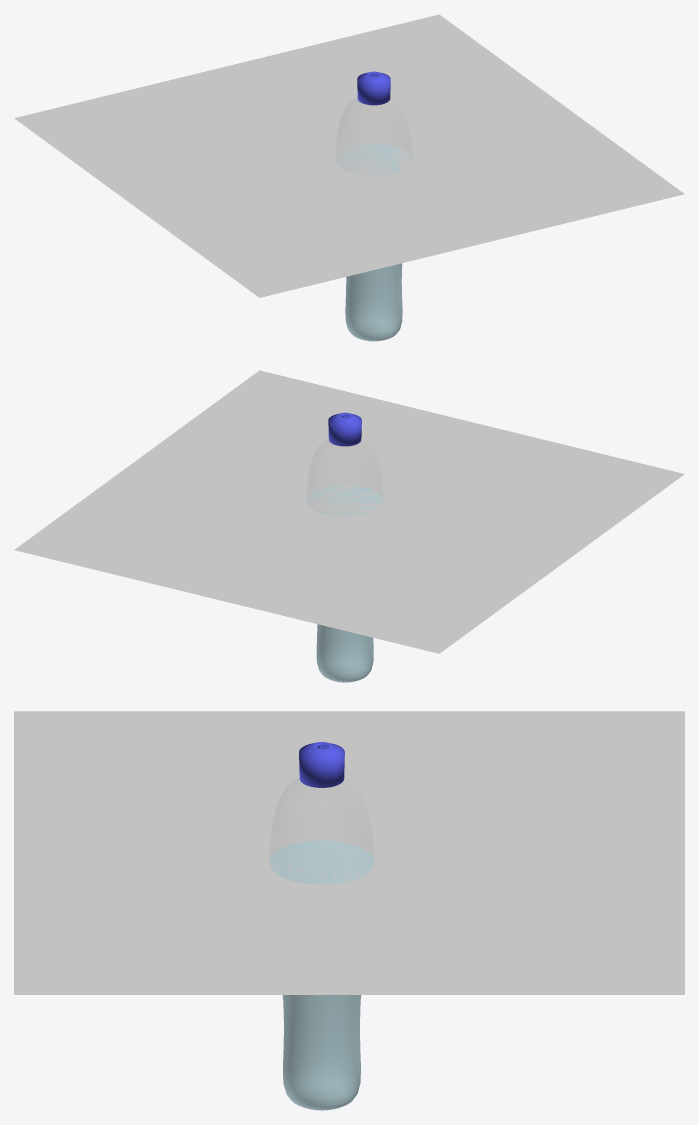
File: bottle1.fbx
The picture shows the model from 3 angles, top to bottom: view 1: azimuth 30°, elevation 25°; view 2: azimuth 150°, elevation 25°; view 3: azimuth 270°, elevation 25°; orthographic projection. The views are drawn at different scales.
Visible parts, largest first — view 1: Plane, liquid, tutup; view 2: Plane, liquid, tutup; view 3: Plane, liquid, tutup.
Boxes of the visible parts, box(x1,y1,x2,y2) form: Plane: box(14, 14, 684, 297); liquid: box(336, 144, 411, 341); tutup: box(357, 71, 390, 105); Plane: box(14, 370, 684, 653); liquid: box(307, 485, 383, 682); tutup: box(328, 412, 361, 446); Plane: box(14, 711, 684, 994); liquid: box(269, 840, 374, 1110); tutup: box(299, 742, 344, 787).
Bounding box in the file's own units: 200 × 117 × 200.
